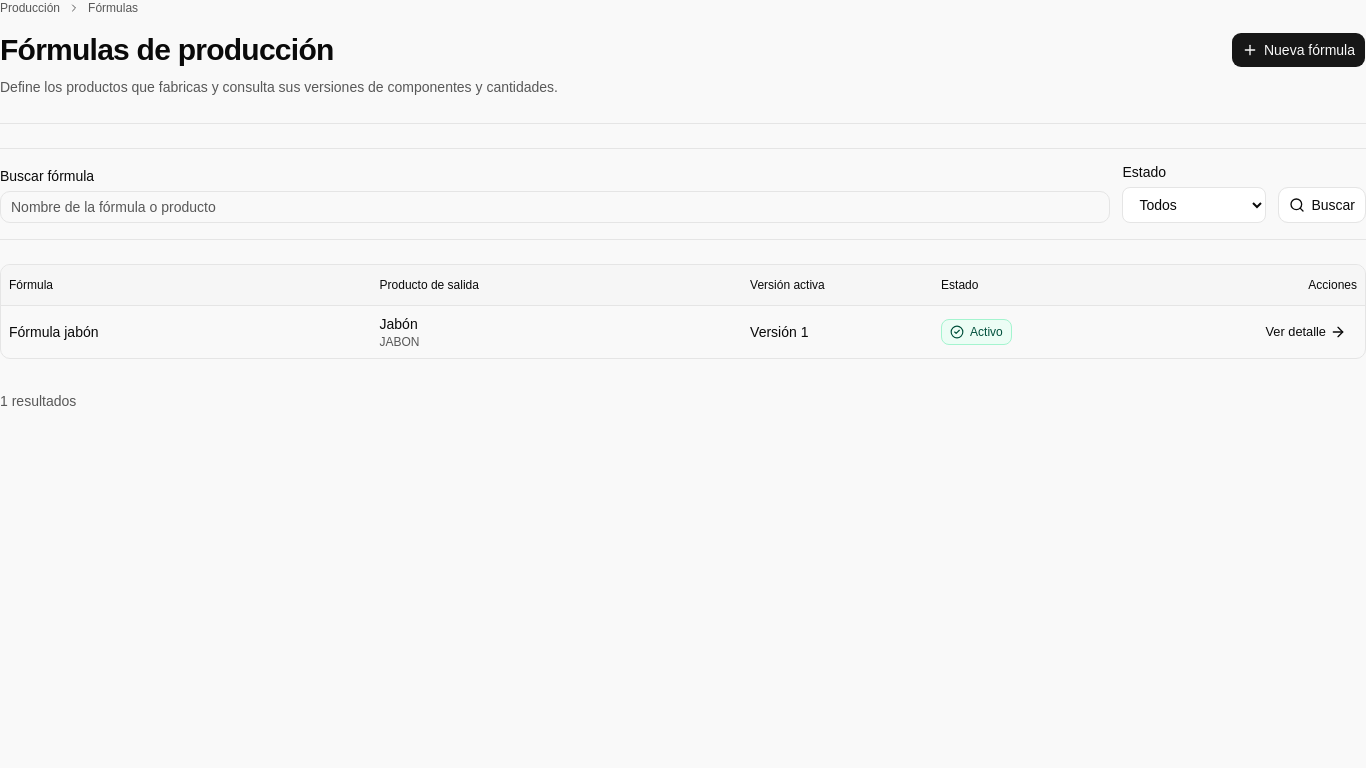
it: Producción: fórmulas y versiones › separa resultados y selección, permite cambiar y cancela el alta sin modificar datos
expect the link "Fórmula jabón" is shown: met, box top-left (9, 324), bottom-right (98, 340)
expect the button "Siguiente" is not shown: met
What coordinates should you click on to do the following:
click the button "Nueva fórmula"
I would click on:
 (1298, 50)
Its box is top-left (1231, 32), bottom-right (1365, 68).
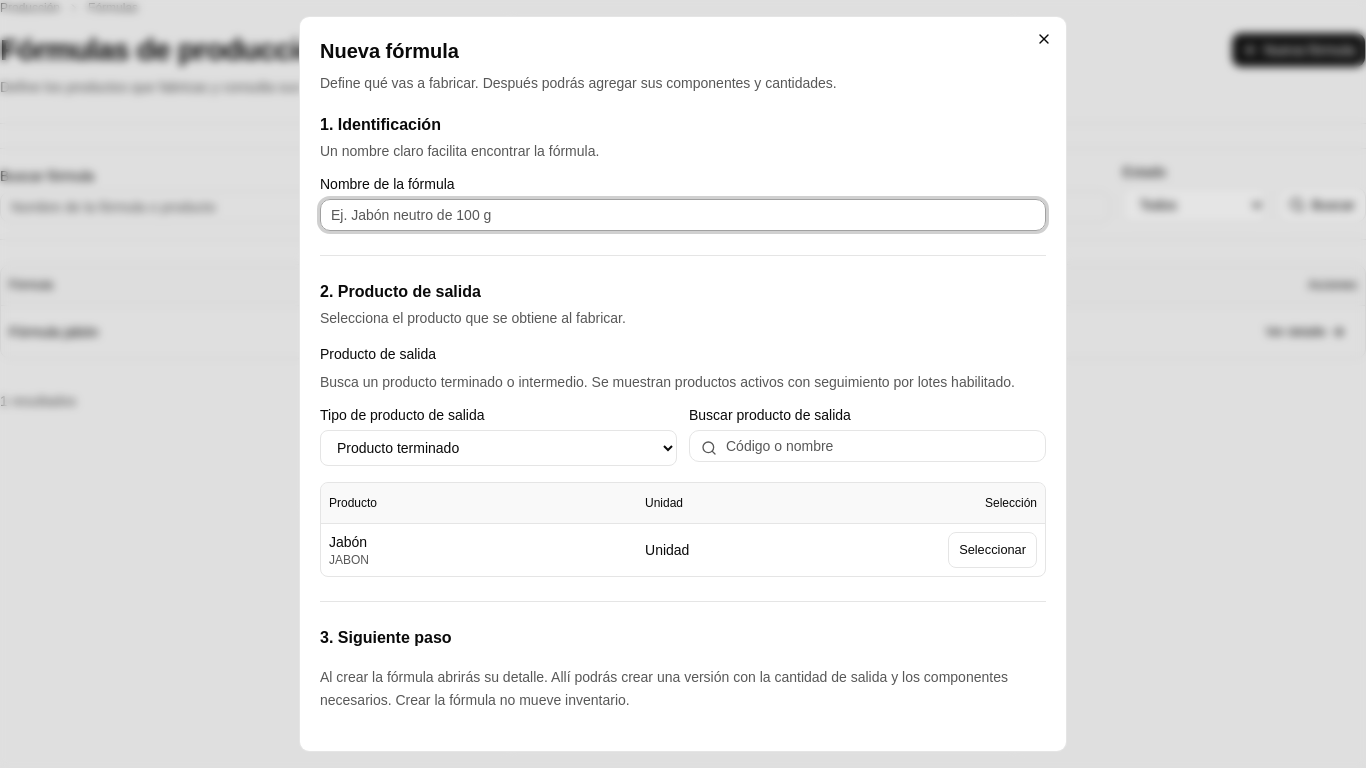
expect the text "Producto seleccionado" is not shown: met
expect the table named "Resultados de producto de salida" is shown: met, box top-left (321, 483), bottom-right (1045, 576)
What coordinates should you click on to do the following:
click the button with aria-label "Seleccionar JABON · Jabón"
I would click on:
 (993, 550)
Its box is top-left (948, 532), bottom-right (1037, 568).
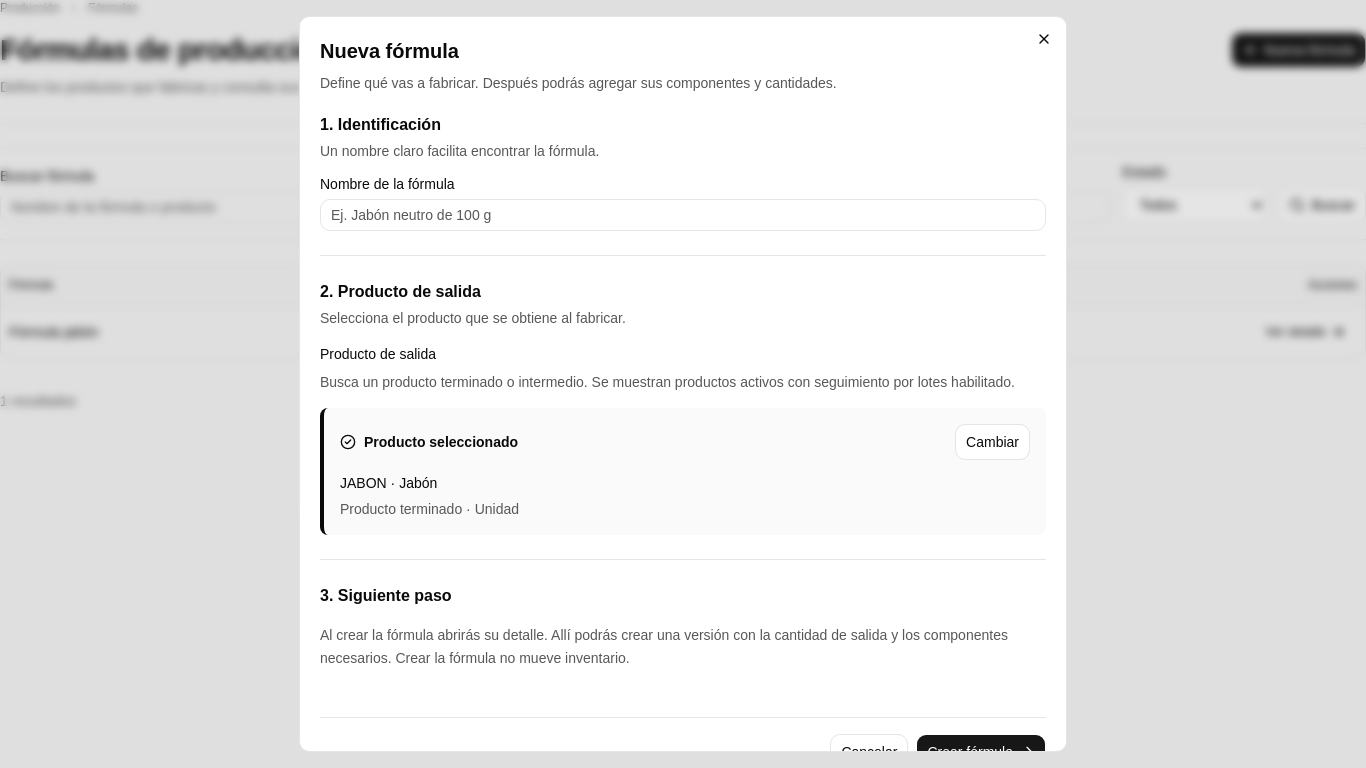
expect the text "Producto seleccionado" is shown: met, box top-left (340, 432), bottom-right (518, 452)
What coordinates should you click on to do the following:
click the button "Cambiar"
I would click on:
 (993, 442)
Its box is top-left (955, 424), bottom-right (1030, 460).
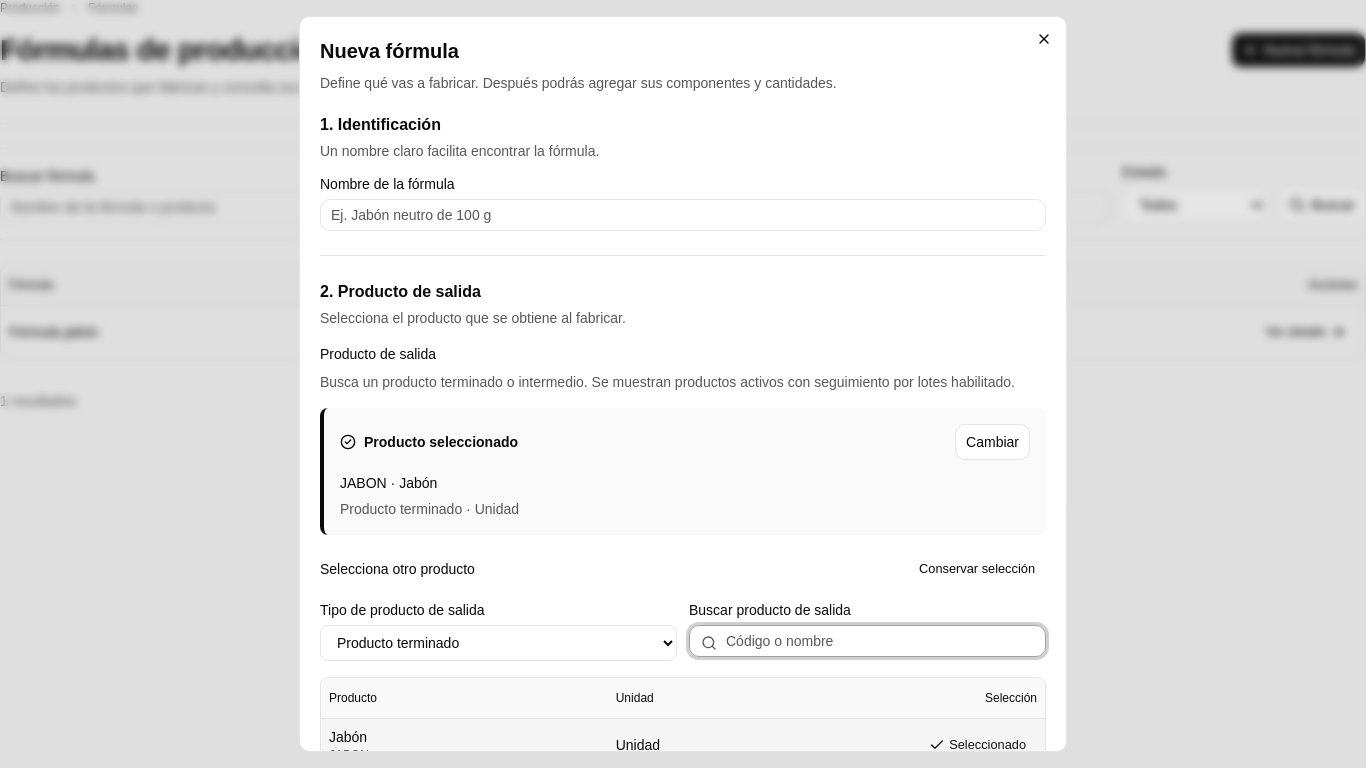
expect the table named "Resultados de producto de salida" is shown: met, box top-left (321, 678), bottom-right (1045, 752)
What coordinates should you click on to do the following:
click the button "Conservar selección"
I would click on:
 (977, 569)
Its box is top-left (908, 551), bottom-right (1046, 587).
(page scrolled)
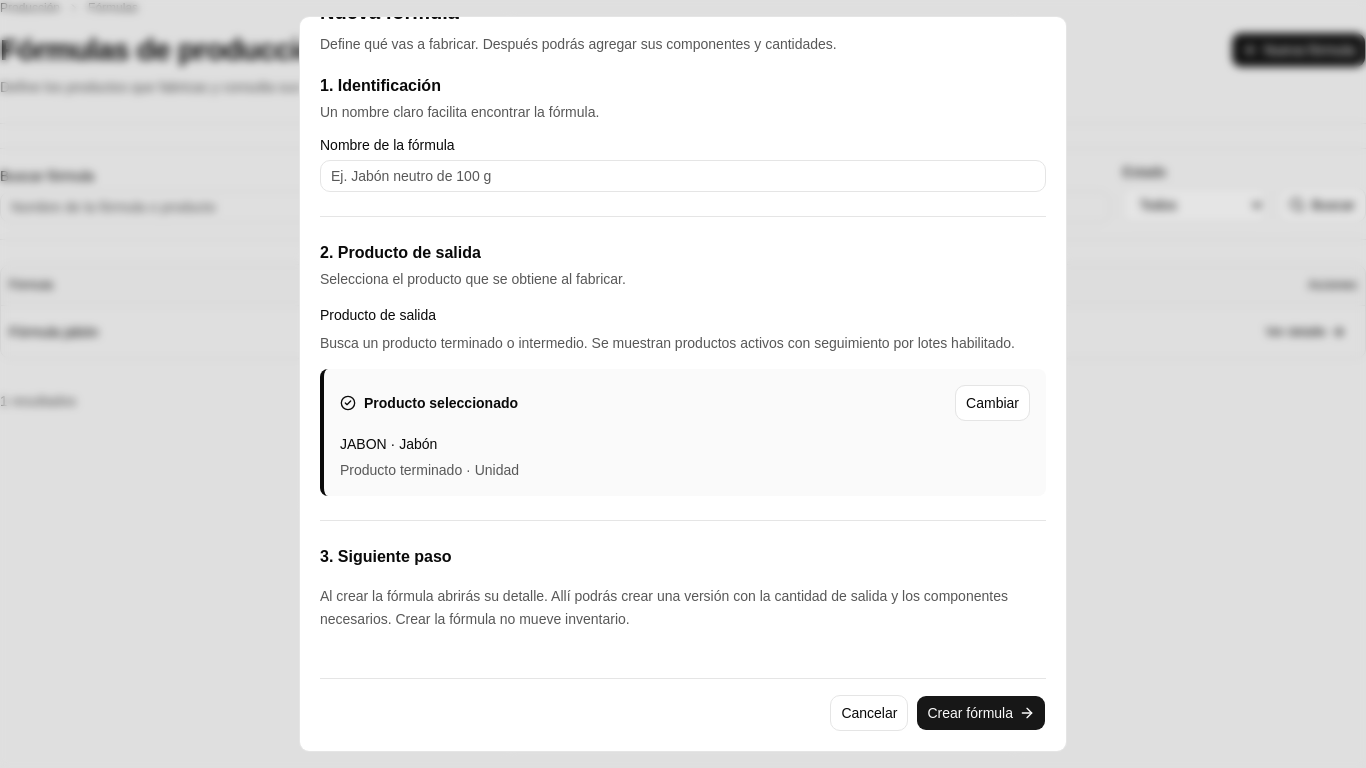
expect the text "JABON · Jabón" is shown: met, box top-left (340, 436), bottom-right (437, 452)
What coordinates should you click on to do the following:
click the button "Cancelar"
I would click on:
 (869, 713)
Its box is top-left (830, 695), bottom-right (908, 731).
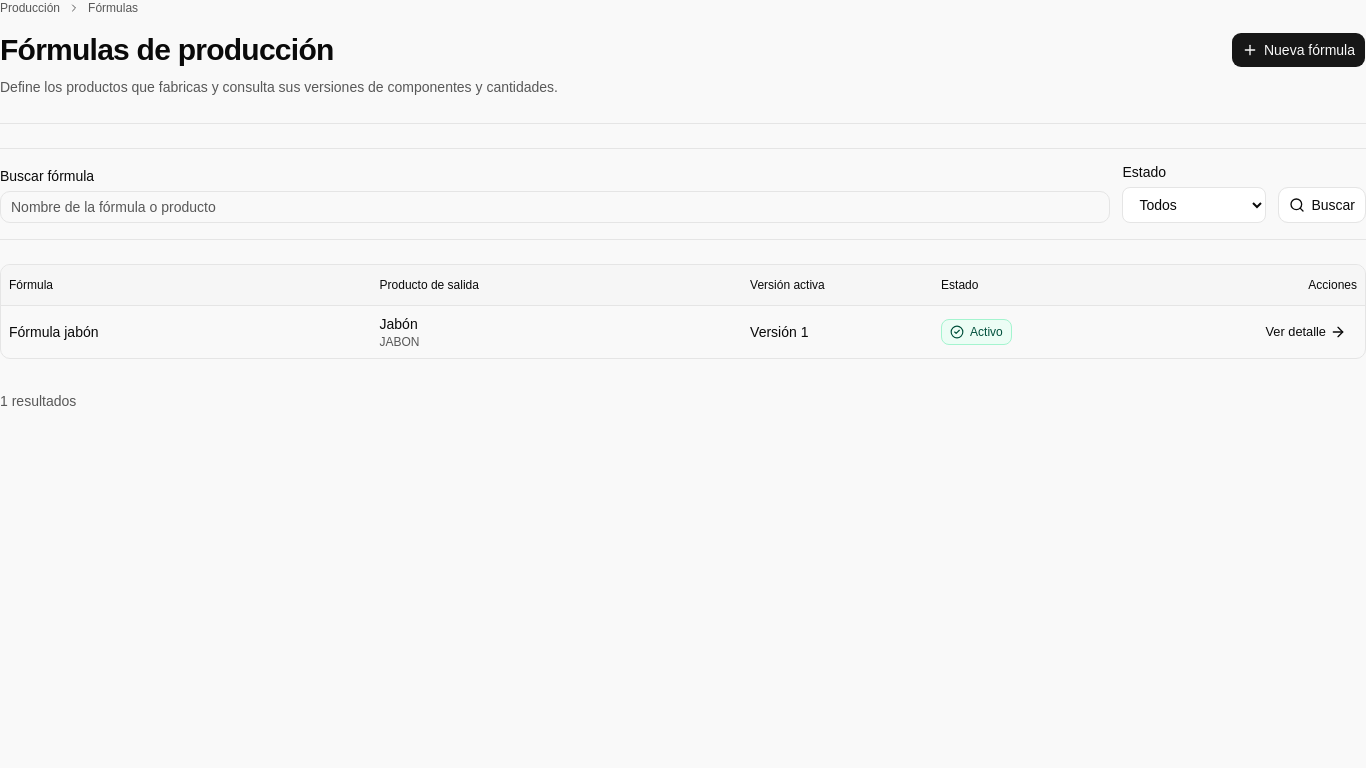
expect the dialog is gone: met
